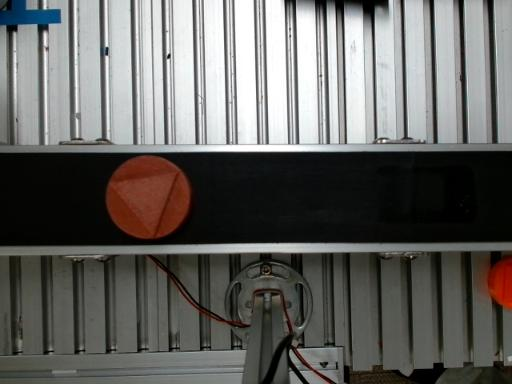Brown_Waper: (106, 155, 193, 240)
Not_Square: (108, 171, 181, 238)
